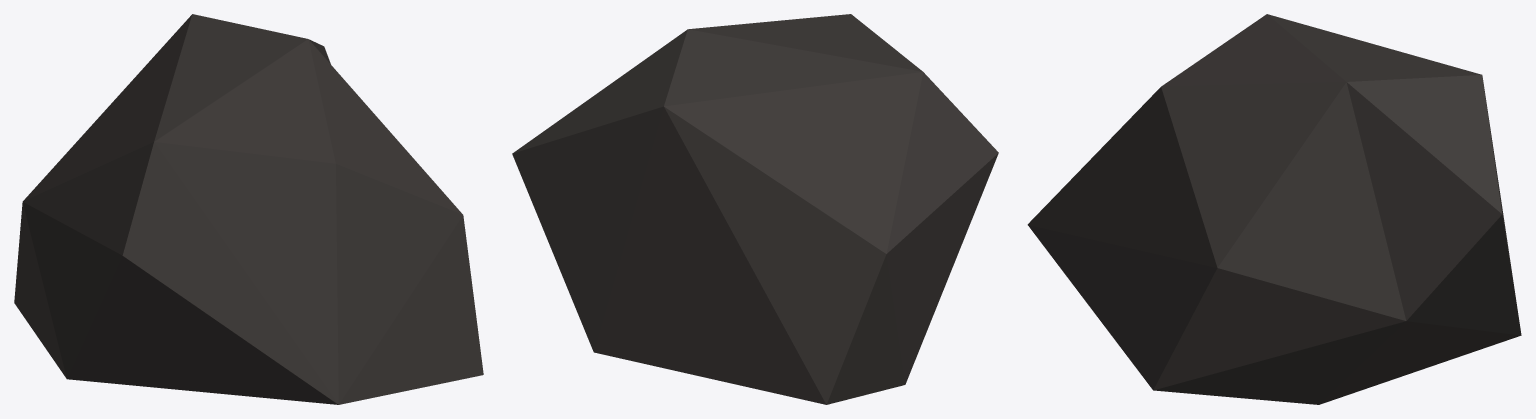
Rendered from Rock_Single_1.fbx.
The picture shows the model from 3 angles, left to right: view 1: azimuth 30°, elevation 25°; view 2: azimuth 150°, elevation 25°; view 3: azimuth 270°, elevation 25°; orthographic projection. The views are drawn at different scales.
Parts seen in each view (by area): view 1: Group1185; view 2: Group1185; view 3: Group1185.
Part boxes in pixels (<box>): Group1185: <box>14,14,483,404</box>; Group1185: <box>512,14,998,404</box>; Group1185: <box>1027,14,1521,404</box>.
Bounding box in the file's own units: 0.8494 × 0.7658 × 1.07.
